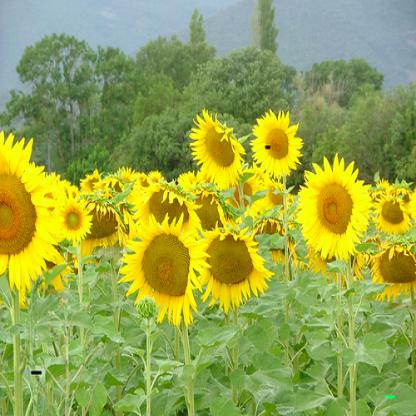SUN FLOWER: (5, 89, 413, 415)
